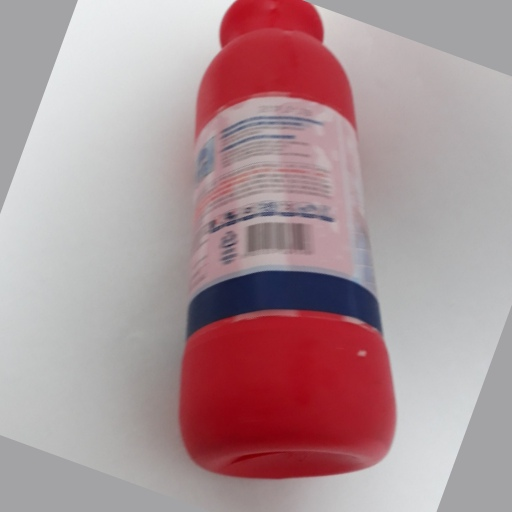Plastic_0: (179, 1, 398, 478)
